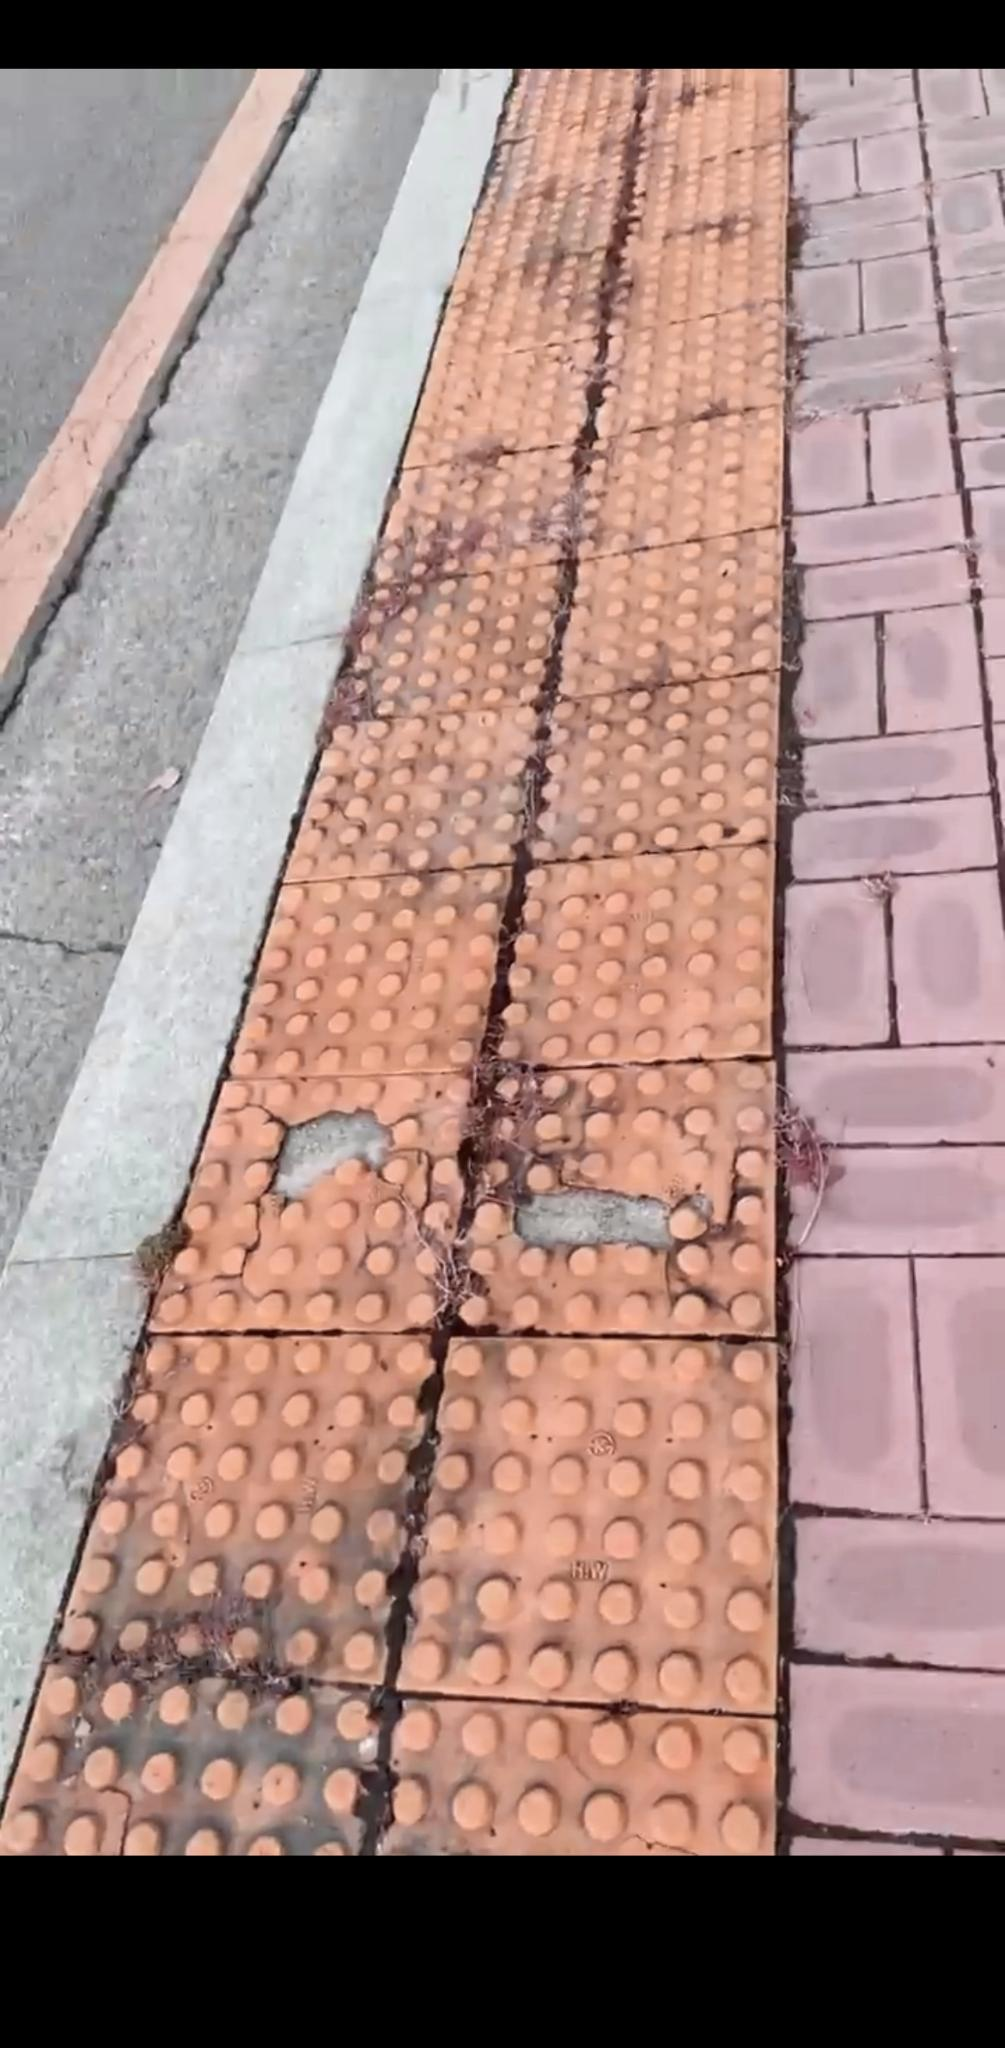Stop block broken: (453, 1066, 775, 1334), (149, 1074, 476, 1328)
Stop block normal: (495, 849, 772, 1059), (229, 869, 511, 1074)
